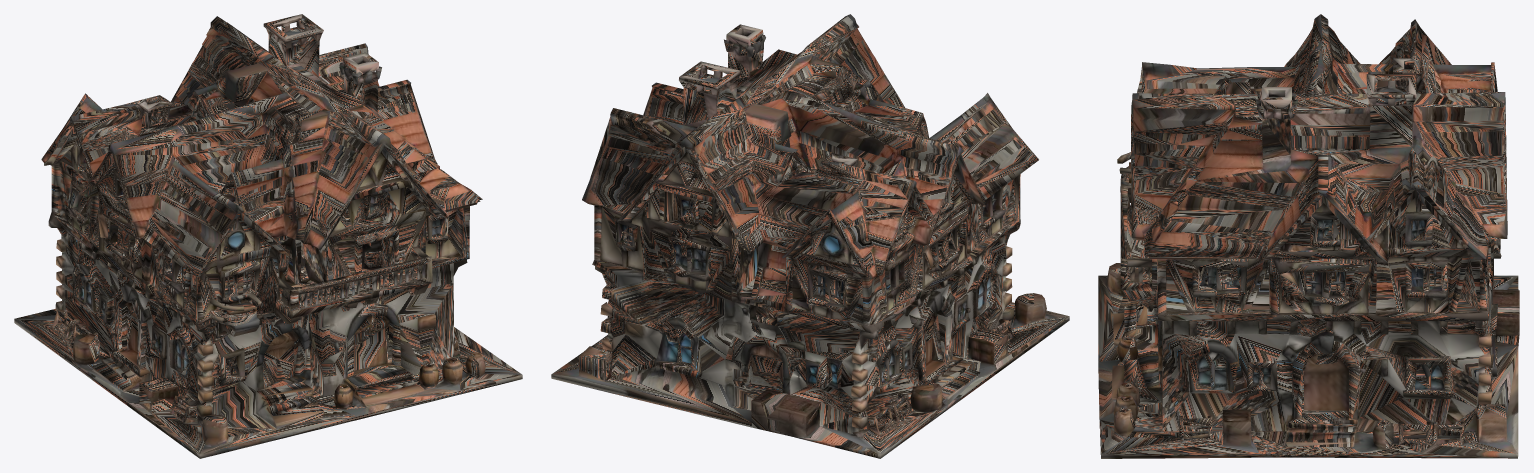
Rendered from A_modular_medieval_ho.glb.
3 views of the same model, side by side, from view 1: azimuth 30°, elevation 25°; view 2: azimuth 150°, elevation 25°; view 3: azimuth 270°, elevation 25° (orthographic). The views are drawn at different scales.
Visible parts, largest first — view 1: A_modular_medieval_ho; view 2: A_modular_medieval_ho; view 3: A_modular_medieval_ho.
Part boxes in pixels (x1,y1,x2,y2): A_modular_medieval_ho: (14, 14, 522, 458); A_modular_medieval_ho: (551, 14, 1069, 458); A_modular_medieval_ho: (1098, 14, 1519, 458).
Bounding box in the file's own units: 2 × 1.67 × 1.99.
1 material, 1 textured.
